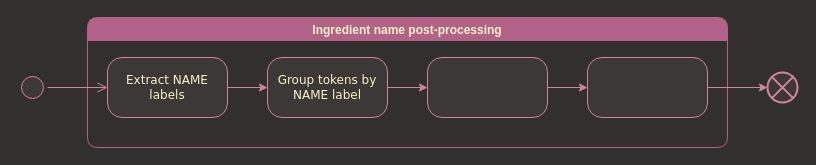
The diagram is 816 pixels wide and 165 high, and some of its shapes have lost their labels. The box of each missing label's shape, as (x1, y1, x2, y2) in pixels:
Construct names from NAME groups: (426, 56, 548, 118)
Create IngredientText objects: (586, 56, 708, 118)
